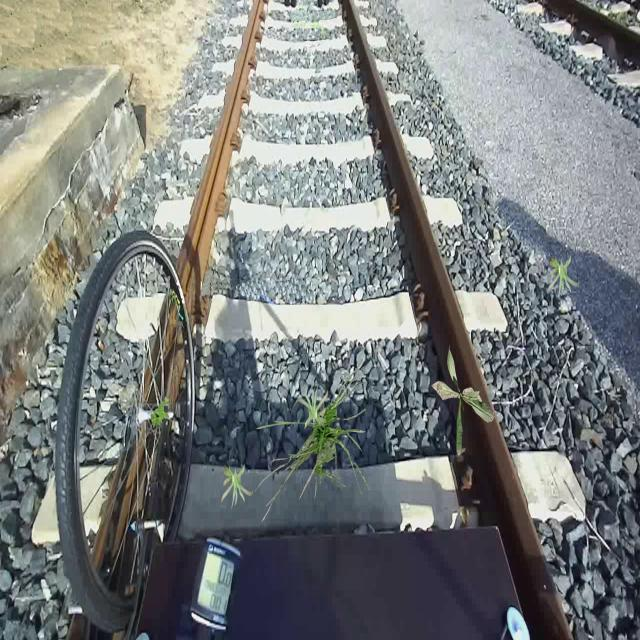Plant: (255, 359, 374, 522), (432, 344, 496, 456), (221, 464, 254, 510), (547, 255, 580, 301), (296, 384, 328, 430), (150, 396, 170, 428)
